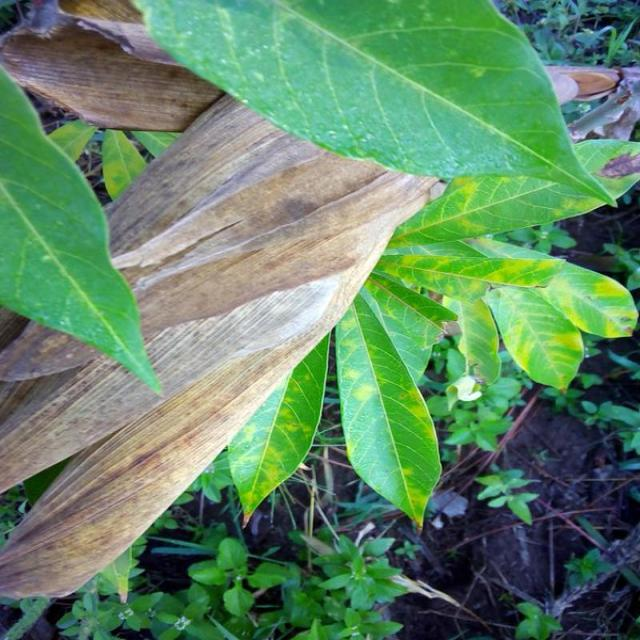cassava leaf: (2, 0, 638, 607), (130, 0, 627, 238), (1, 62, 164, 396), (335, 281, 444, 531), (227, 329, 332, 528)
